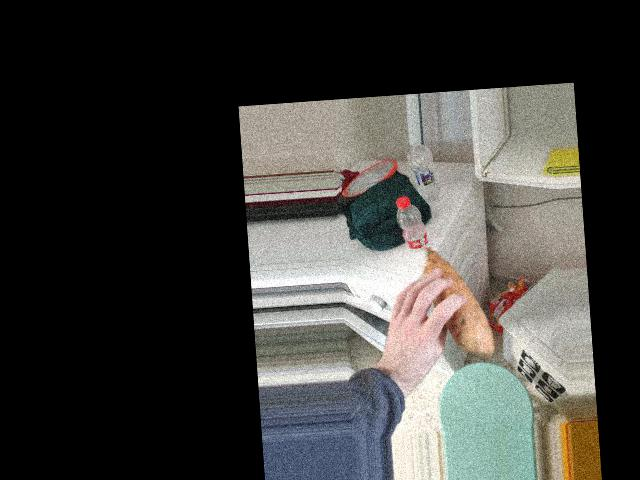sweet_potato: (404, 250, 490, 341)
